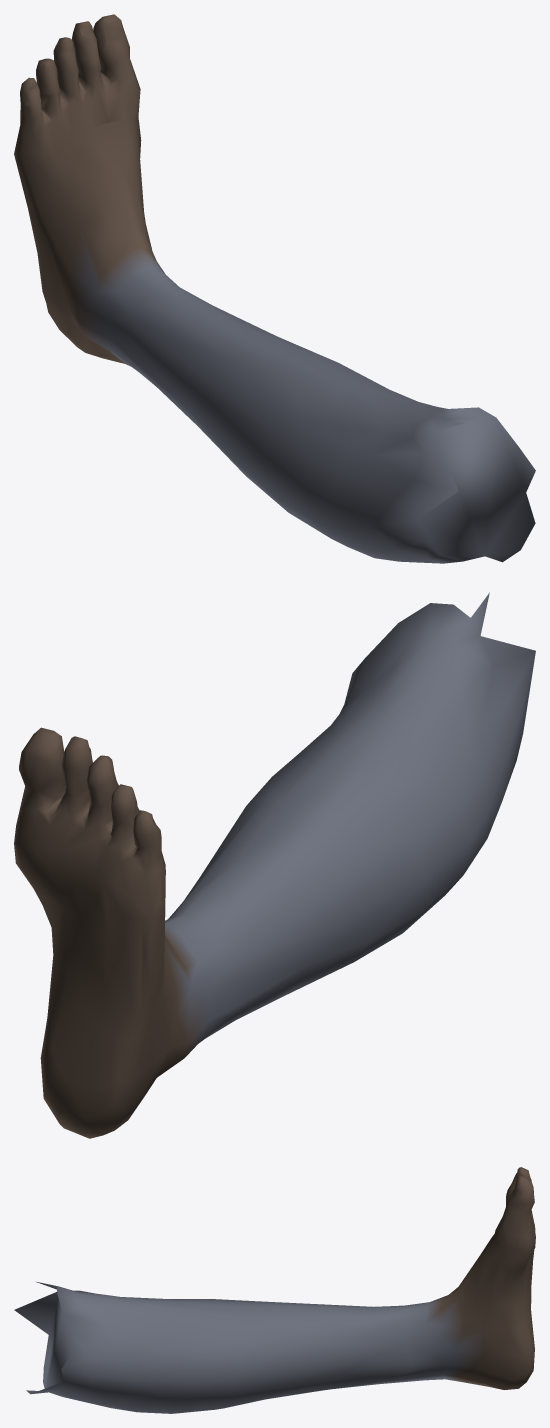
The model's file is teibi_left_lower_leg_authored.glb.
3 renders of one model, top to bottom at view 1: azimuth 30°, elevation 25°; view 2: azimuth 150°, elevation 25°; view 3: azimuth 270°, elevation 25°, orthographic. The views are drawn at different scales.
Visible parts, largest first — view 1: piece_leftleg_lowerleg_mesh; view 2: piece_leftleg_lowerleg_mesh; view 3: piece_leftleg_lowerleg_mesh.
Boxes of the visible parts, box(x1,y1,x2,y2) form: piece_leftleg_lowerleg_mesh: box(14, 14, 535, 563); piece_leftleg_lowerleg_mesh: box(14, 592, 535, 1138); piece_leftleg_lowerleg_mesh: box(14, 1167, 535, 1413).
Size of the model in its own units: 0.1585 by 0.2753 by 0.5596.
